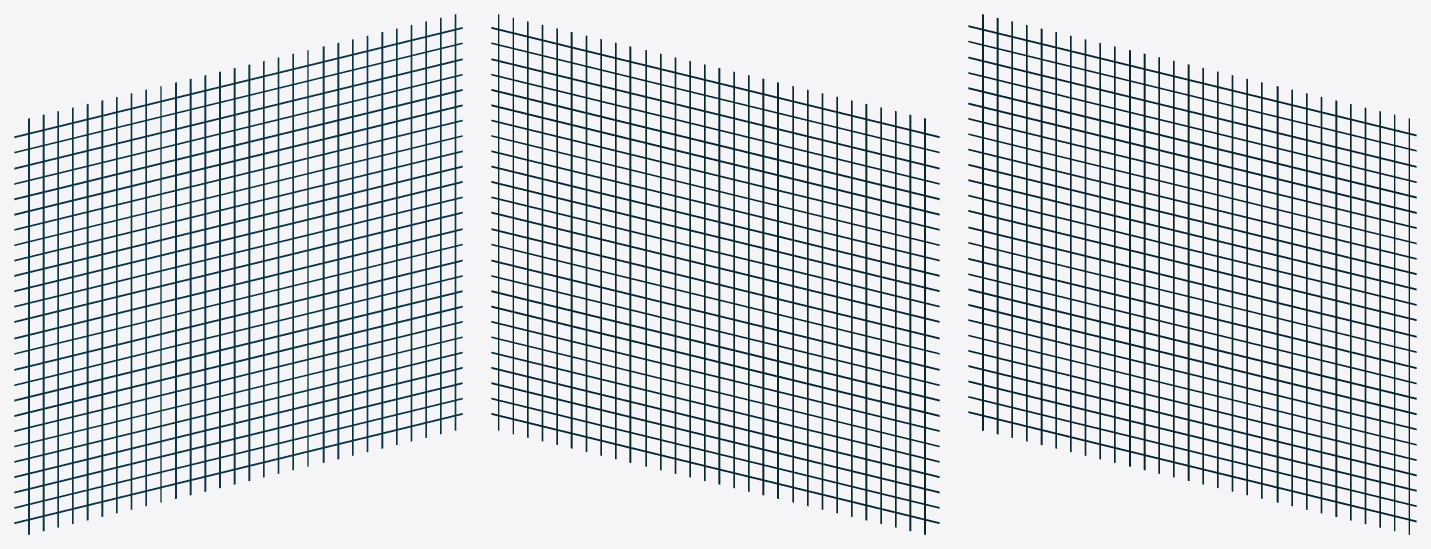
File: SemiEPFLaserGrid6.fbx
3 renders of one model, left to right at view 1: azimuth 30°, elevation 25°; view 2: azimuth 150°, elevation 25°; view 3: azimuth 330°, elevation 25°, orthographic.
Visible parts, largest first — view 1: SemiEPFLaserGrid6; view 2: SemiEPFLaserGrid6; view 3: SemiEPFLaserGrid6.
Part boxes in pixels (bbox=[...]): SemiEPFLaserGrid6: bbox=[14, 14, 462, 534]; SemiEPFLaserGrid6: bbox=[491, 14, 939, 534]; SemiEPFLaserGrid6: bbox=[968, 14, 1416, 534].
Bounding box in the file's own units: 1531 × 1359 × 0.4073.
